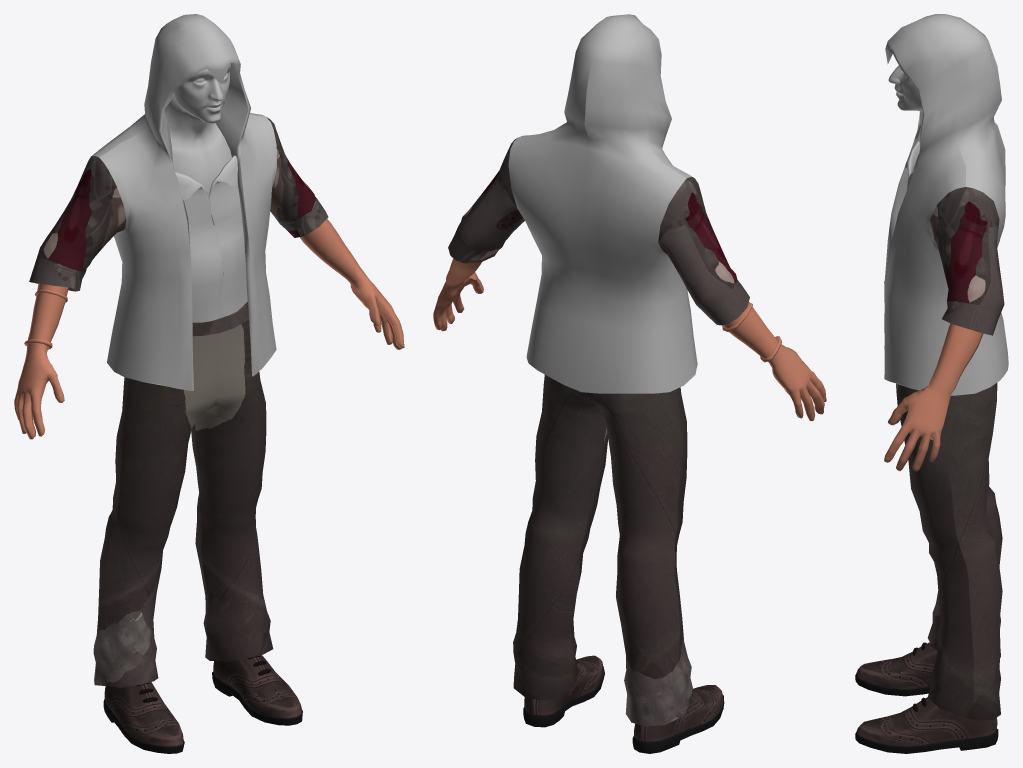
Rendered from Varuzhan Tarzabian.fbx.
The picture shows the model from 3 angles, left to right: view 1: azimuth 30°, elevation 25°; view 2: azimuth 150°, elevation 25°; view 3: azimuth 270°, elevation 25°; orthographic projection.
Visible parts, largest first — view 1: Pants, Coat, Sleeves, Shirt, Shoes, Hands, Head; view 2: Coat, Pants, Sleeves, Hands, Shoes; view 3: Coat, Pants, Sleeves, Shoes, Hands, Head, Shirt.
Boxes of the visible parts, left/top/right/bottom form: Pants: left=93, top=302, right=273, bottom=687; Coat: left=91, top=14, right=276, bottom=390; Sleeves: left=29, top=117, right=328, bottom=291; Shirt: left=175, top=155, right=247, bottom=322; Shoes: left=103, top=655, right=302, bottom=753; Hands: left=14, top=219, right=404, bottom=439; Head: left=164, top=63, right=232, bottom=195; Coat: left=508, top=14, right=697, bottom=393; Pants: left=513, top=375, right=694, bottom=726; Sleeves: left=448, top=138, right=749, bottom=325; Hands: left=433, top=258, right=826, bottom=420; Shoes: left=523, top=655, right=724, bottom=753; Coat: left=884, top=14, right=1008, bottom=395; Pants: left=896, top=383, right=1002, bottom=720; Sleeves: left=930, top=187, right=1004, bottom=335; Shoes: left=855, top=642, right=998, bottom=753; Hands: left=884, top=281, right=983, bottom=471; Head: left=888, top=65, right=922, bottom=171; Shirt: left=904, top=141, right=920, bottom=190.
Size of the model in its own units: 105 by 185 by 36.83.
